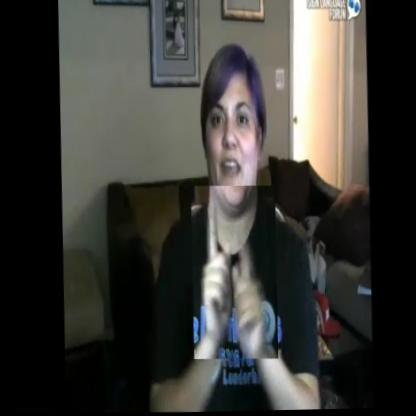NiceToMeetYou: (186, 185, 278, 361)
